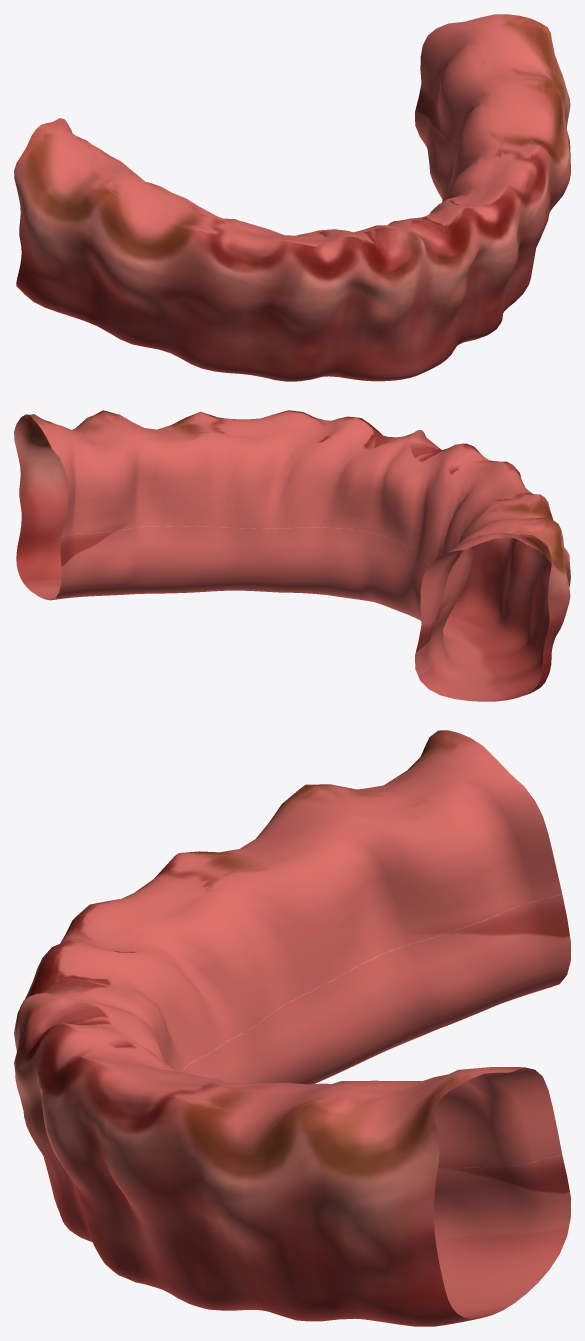
File: CGumBottom.glb
3 renders of one model, top to bottom at view 1: azimuth 30°, elevation 25°; view 2: azimuth 150°, elevation 25°; view 3: azimuth 270°, elevation 25°, orthographic. The views are drawn at different scales.
Visible parts, largest first — view 1: GumBottom; view 2: GumBottom; view 3: GumBottom.
Part boxes in pixels (x1,y1,x2,y2): GumBottom: (14,14,570,381); GumBottom: (14,410,570,701); GumBottom: (14,730,570,1326).
Bounding box in the file's own units: 1.74 × 0.6469 × 1.06.
1 material, 1 textured.
